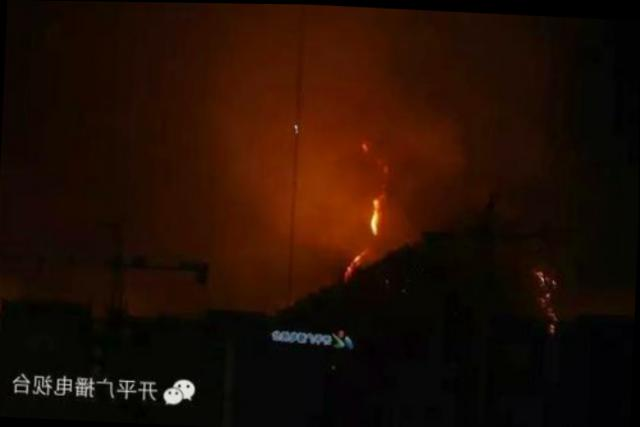fire: (341, 137, 395, 276), (531, 265, 566, 332)
